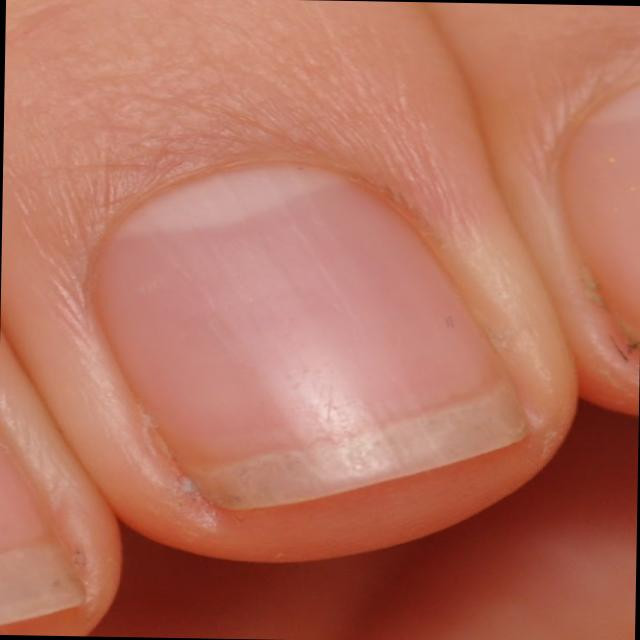Nail: (96, 165, 526, 508), (561, 89, 640, 329), (0, 451, 85, 623)
